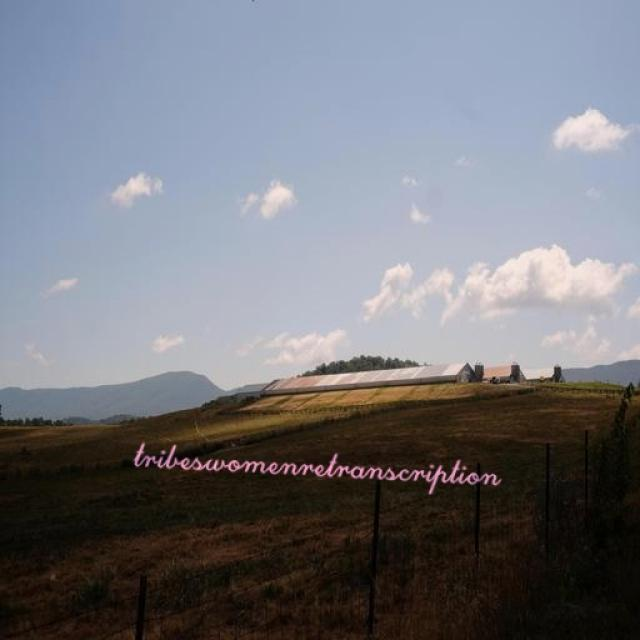watermark: (126, 440, 524, 490)
